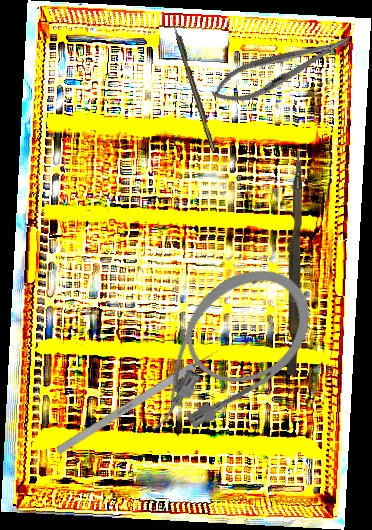Cannula: (109, 245, 333, 458)
Hook Surgical: (54, 341, 230, 456), (169, 16, 217, 152)
Needle Holder: (206, 23, 357, 114)
Pusher: (287, 150, 302, 375)
